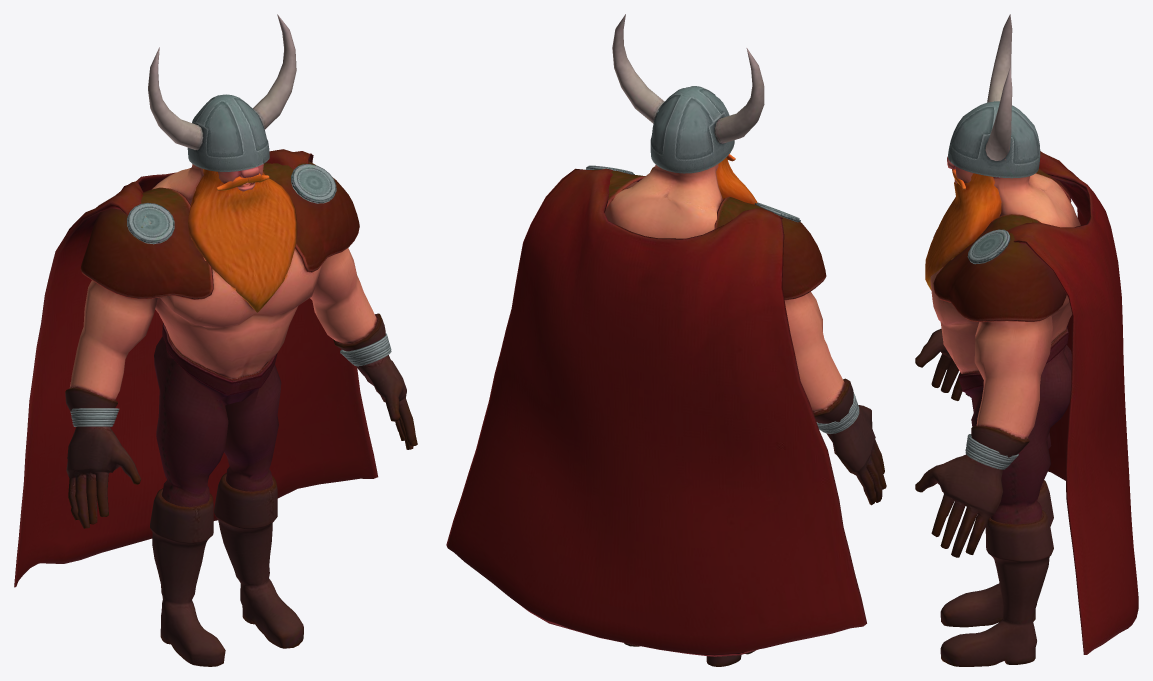
3 views of the same model, side by side, from view 1: azimuth 30°, elevation 25°; view 2: azimuth 150°, elevation 25°; view 3: azimuth 270°, elevation 25° (orthographic). The views are drawn at different scales.
Visible parts, largest first — view 1: Body_low, Cape_low, Beared_low, ShoulderR_low, Helmet_low, ShoulderL_low, DiskR_low, DiskL_low, WristR_low, WristL_low; view 2: Cape_low, Body_low, Helmet_low, ShoulderR_low, Beared_low; view 3: Body_low, Cape_low, ShoulderL_low, Helmet_low, Beared_low, DiskL_low, WristL_low.
Boxes of the visible parts, <box> form: Body_low: <box>65,164,417,666</box>; Cape_low: <box>14,149,378,587</box>; Beared_low: <box>188,169,297,312</box>; ShoulderR_low: <box>80,187,213,299</box>; Helmet_low: <box>148,14,296,171</box>; ShoulderL_low: <box>263,161,359,272</box>; DiskR_low: <box>127,203,174,244</box>; DiskL_low: <box>291,164,336,203</box>; WristR_low: <box>70,408,119,426</box>; WristL_low: <box>340,333,391,366</box>; Cape_low: <box>446,168,866,656</box>; Body_low: <box>605,164,886,666</box>; Helmet_low: <box>612,14,764,173</box>; ShoulderR_low: <box>714,196,826,300</box>; Beared_low: <box>650,157,757,204</box>; Body_low: <box>915,157,1080,666</box>; Cape_low: <box>1006,151,1138,654</box>; ShoulderL_low: <box>933,214,1066,321</box>; Helmet_low: <box>947,14,1040,178</box>; Beared_low: <box>925,173,1001,289</box>; DiskL_low: <box>967,229,1010,264</box>; WristL_low: <box>965,434,1018,469</box>.
Size of the model in its own units: 1.34 by 2 by 0.6743.
Materials: 1 (1 with a texture image).
